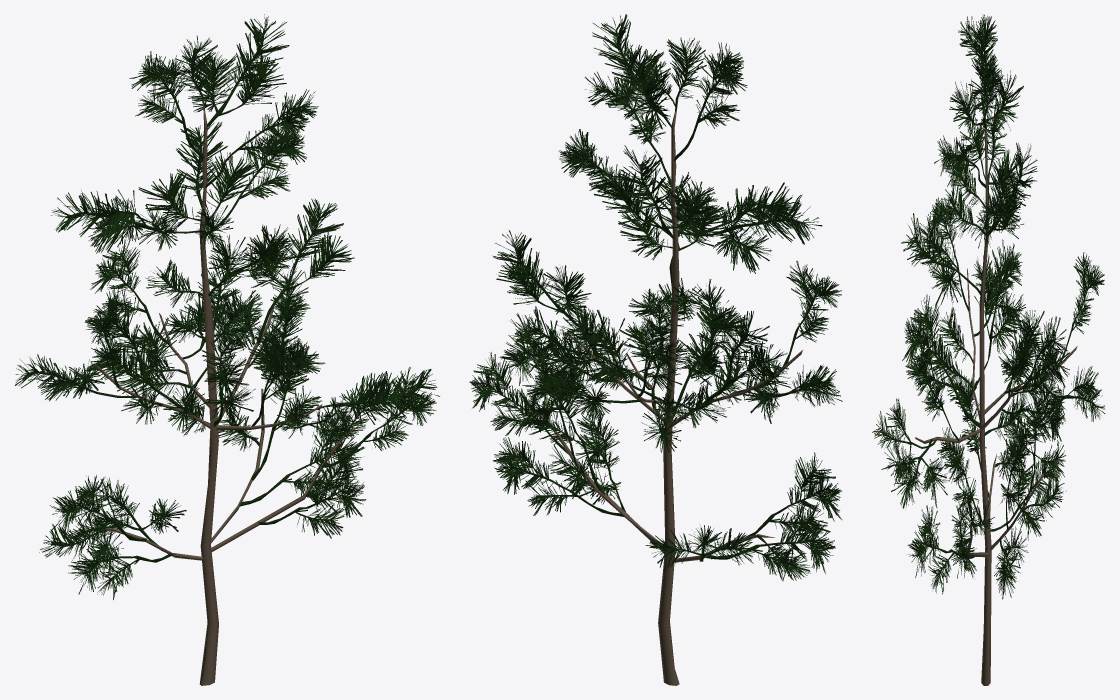
The model's file is Pine_Sapling 1.fbx.
3 views of the same model, side by side, from view 1: azimuth 30°, elevation 25°; view 2: azimuth 150°, elevation 25°; view 3: azimuth 270°, elevation 25° (orthographic).
Visible parts, largest first — view 1: pine_sapling_small_a; view 2: pine_sapling_small_a; view 3: pine_sapling_small_a.
Part boxes in pixels (x1=…): pine_sapling_small_a: x1=15, y1=14, x2=439, y2=685; pine_sapling_small_a: x1=469, y1=14, x2=842, y2=685; pine_sapling_small_a: x1=872, y1=14, x2=1105, y2=685.
Size of the model in its own units: 1418 by 2238 by 728.
